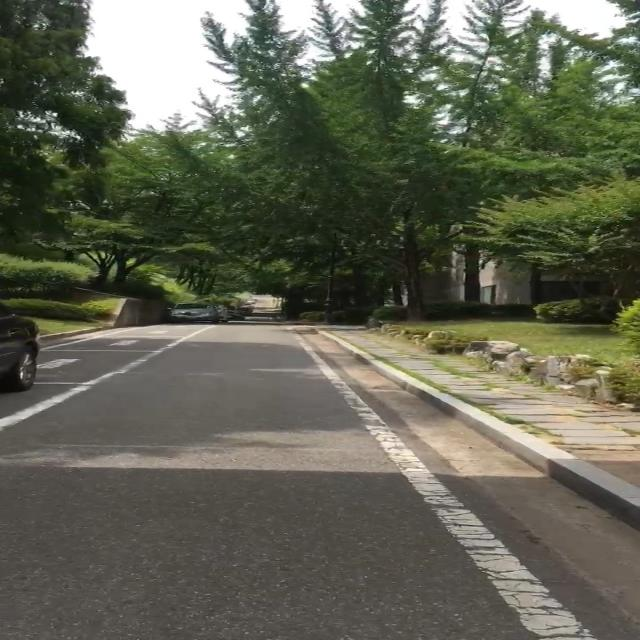obstacle: (0, 306, 40, 396), (168, 304, 245, 326), (230, 299, 245, 312)
road: (0, 324, 640, 640)
sidewalk: (316, 326, 640, 489)
